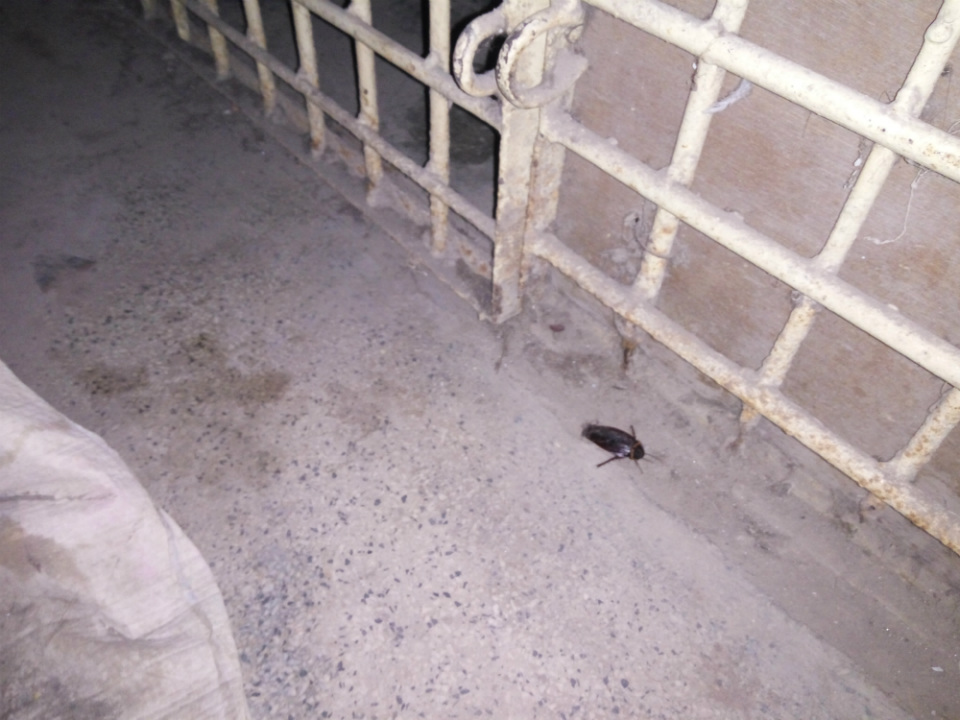cockroach: (537, 389, 678, 484)
